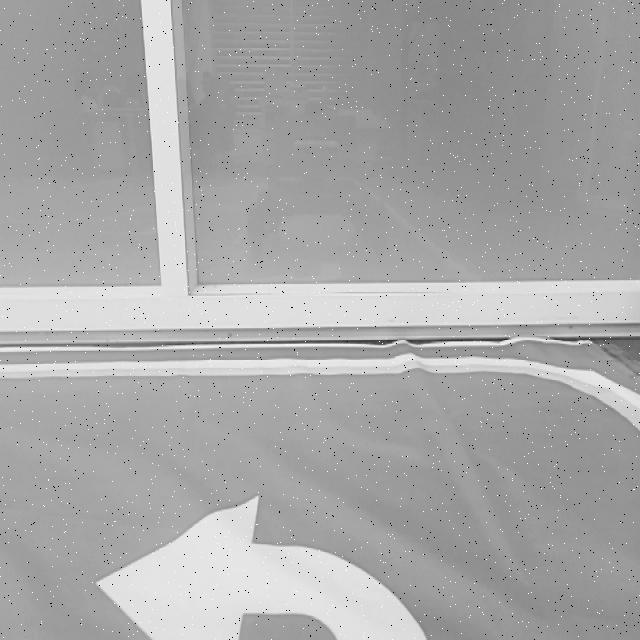right_lane: (0, 361, 513, 380)
